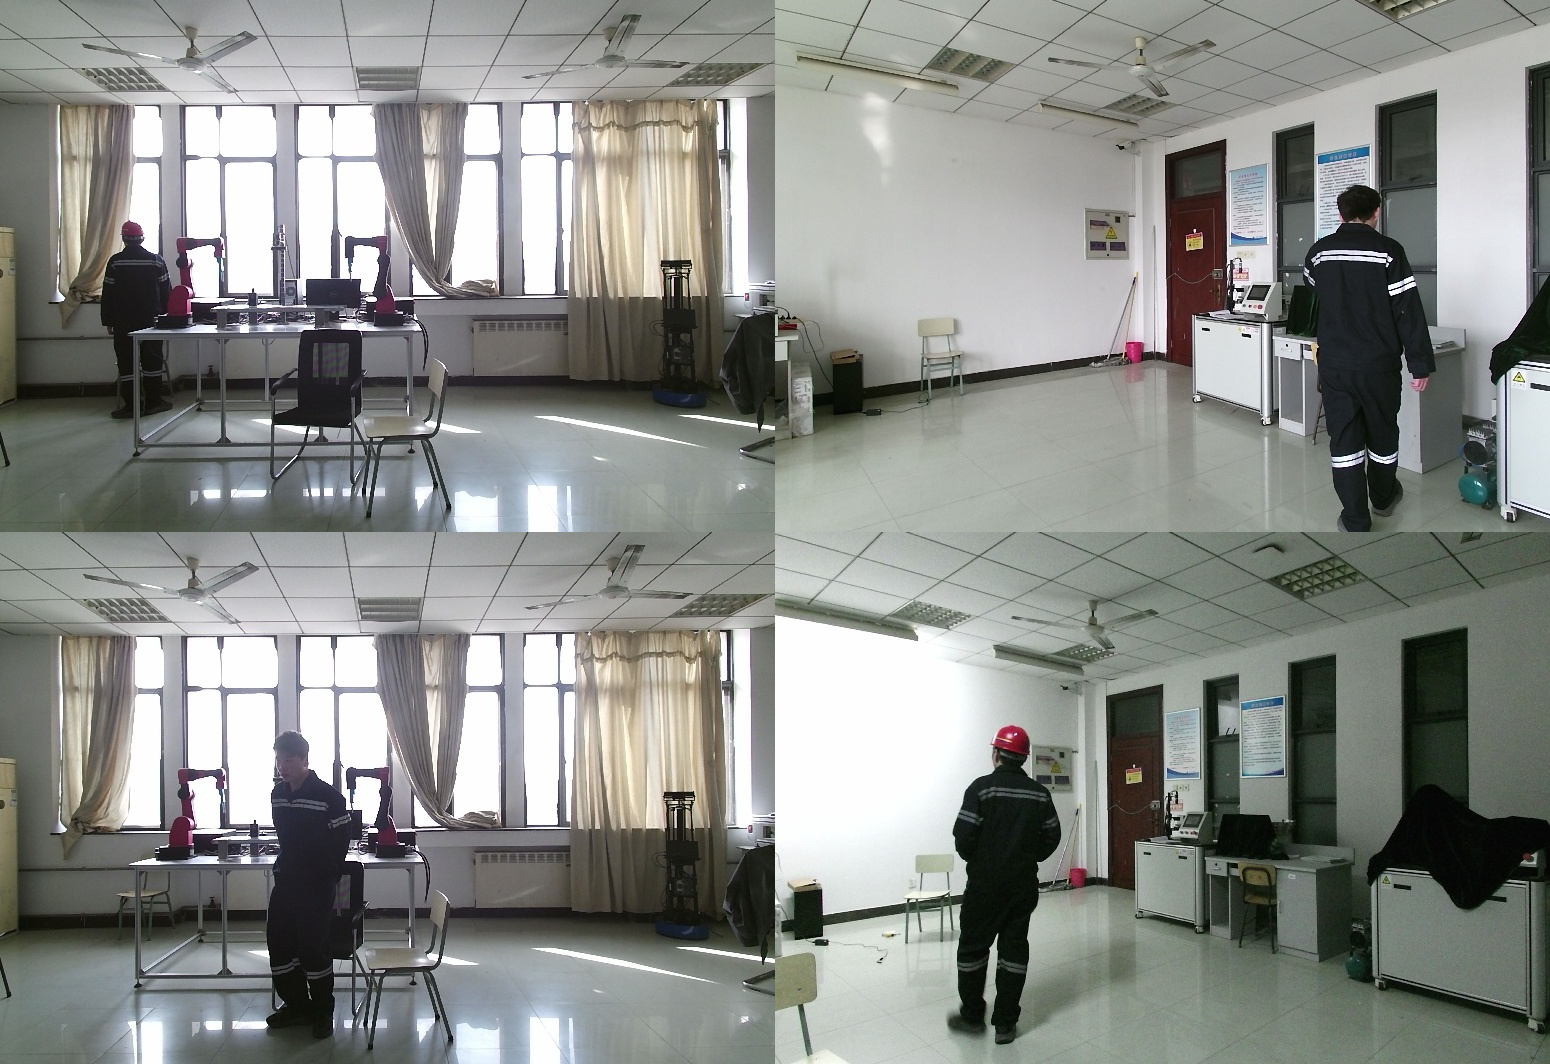person: (1299, 189, 1450, 532), (955, 723, 1078, 1056), (264, 731, 364, 1033), (92, 222, 177, 424)
